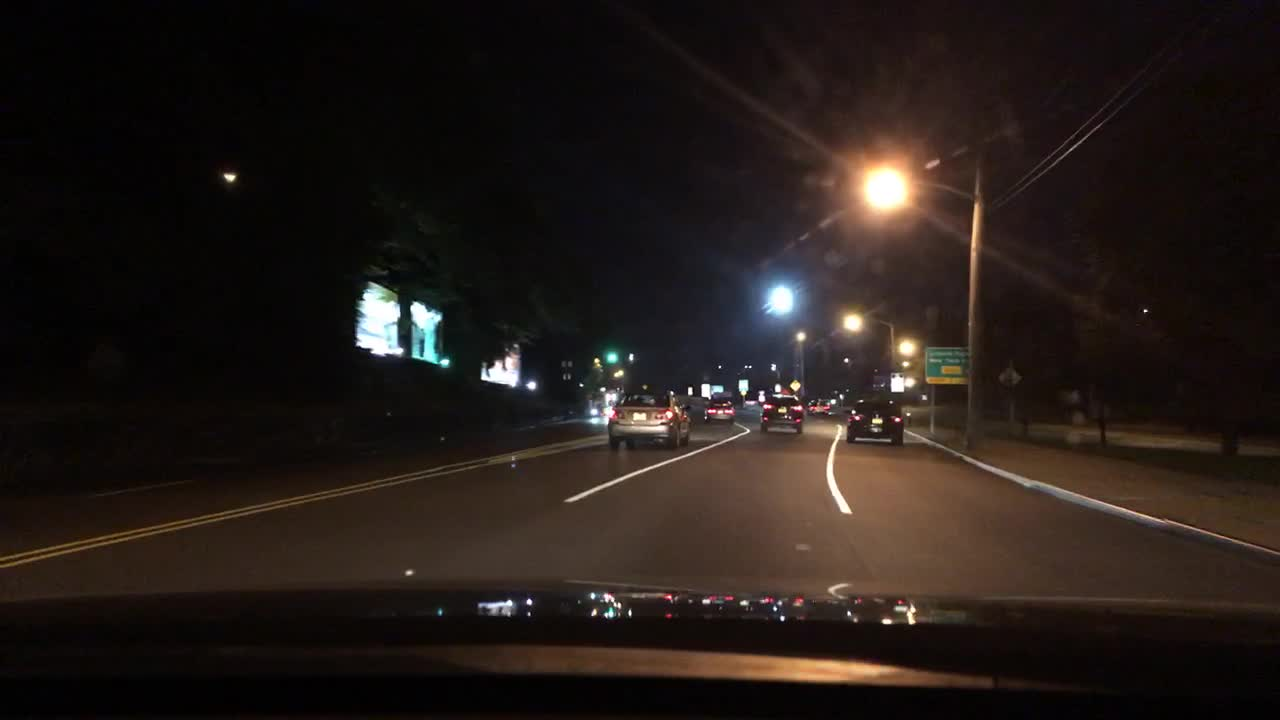car: (605, 387, 691, 452), (844, 397, 906, 448), (758, 395, 804, 435), (704, 399, 734, 425), (806, 398, 833, 416), (590, 404, 609, 416)
traffic light: (606, 351, 617, 364)
traffic sign: (925, 346, 968, 388), (1002, 367, 1021, 385), (890, 372, 903, 392), (700, 383, 709, 397), (790, 380, 800, 391), (739, 380, 748, 391), (768, 363, 777, 372), (773, 383, 782, 392), (712, 385, 723, 392), (758, 394, 765, 404), (685, 386, 691, 394), (740, 391, 747, 396)
